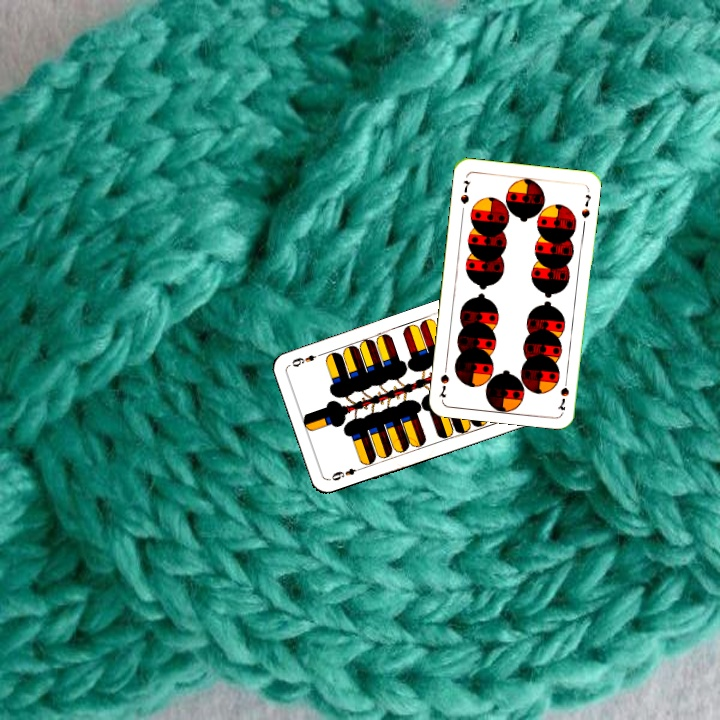E9: (328, 463, 365, 483)
S7: (554, 373, 572, 413), (456, 176, 473, 207)
